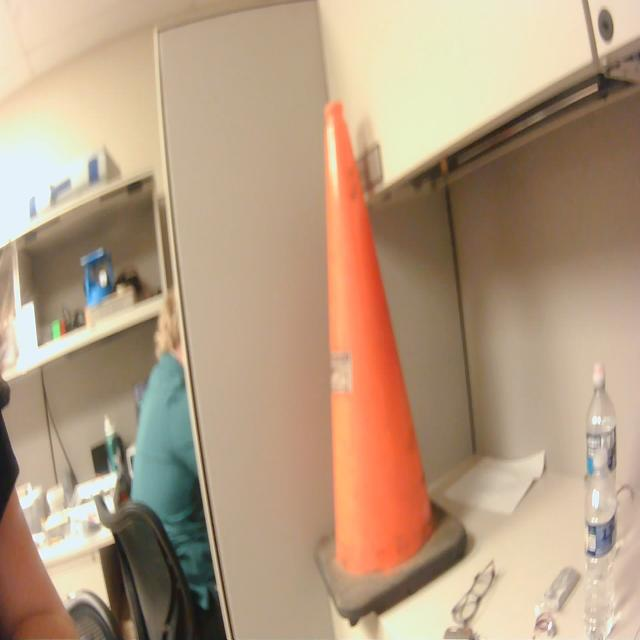traffic cone: (307, 95, 475, 633)
